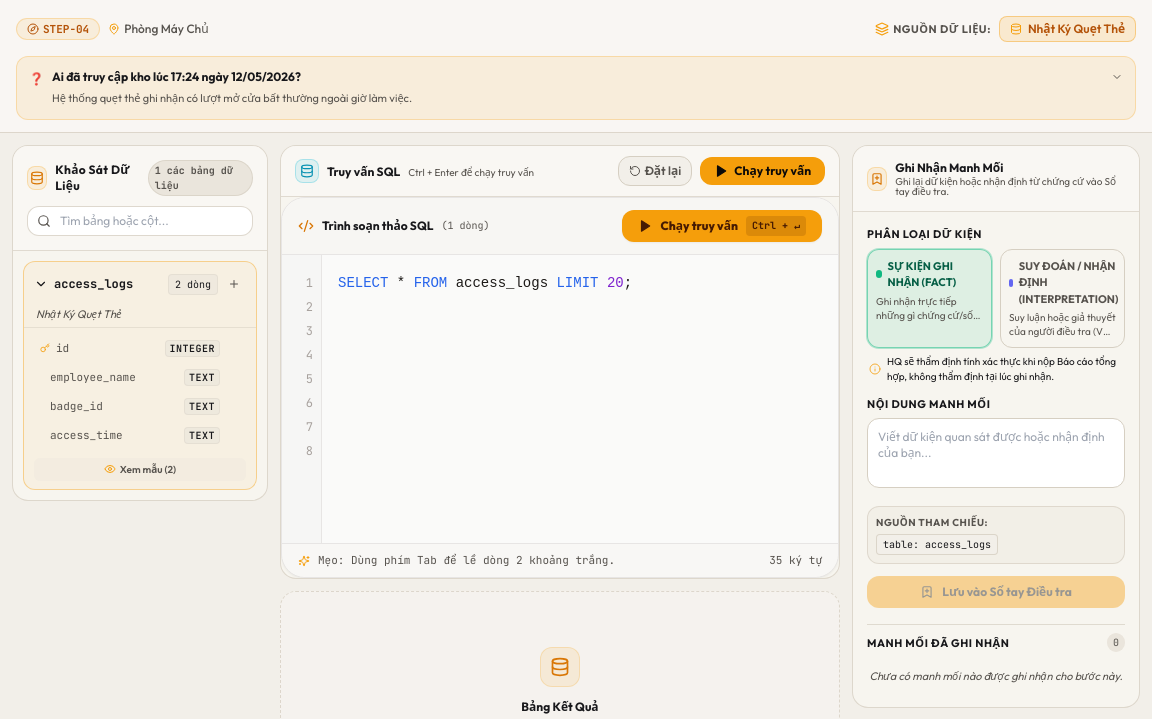
Scenario: DataProcessingWorkspace Component Tests › 5. handles SQL errors gracefully without crashing or showing game over
Click the button "Chạy truy vấn". click: (763, 171)
box: [700,157,825,185]
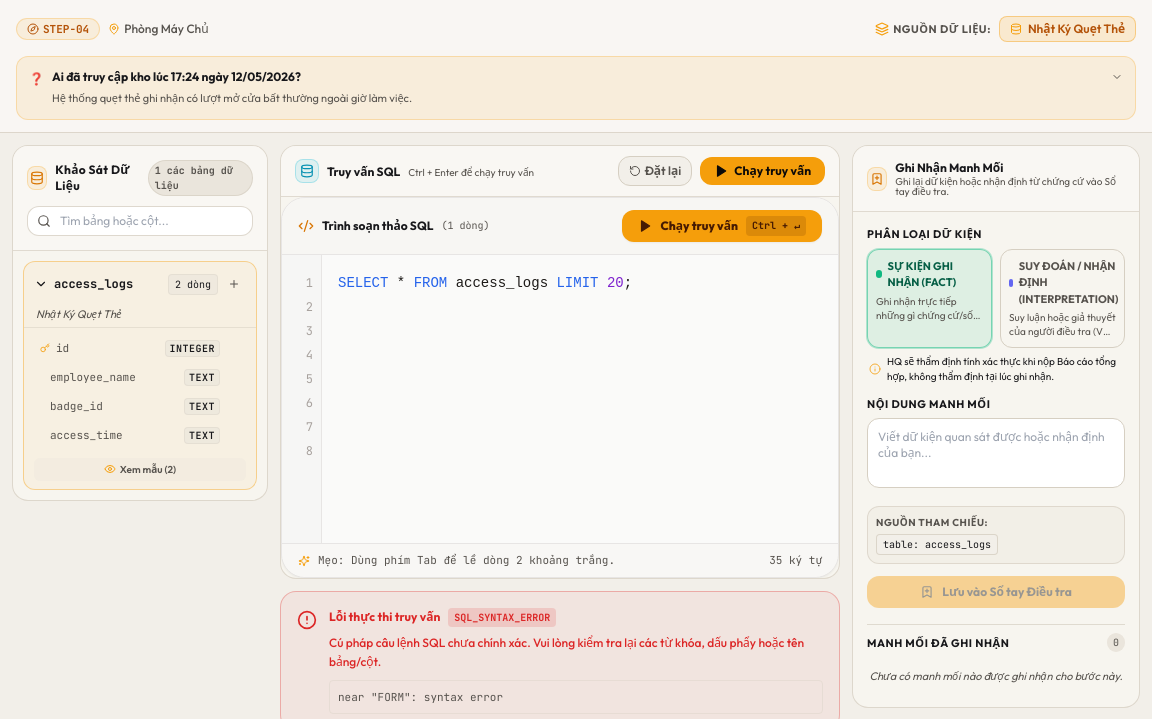
expect the text "Lỗi thực thi truy vấn" is shown: met, box [329,609,440,625]
expect the text "SQL_SYNTAX_ERROR" is shown: met, box [448,608,556,627]
